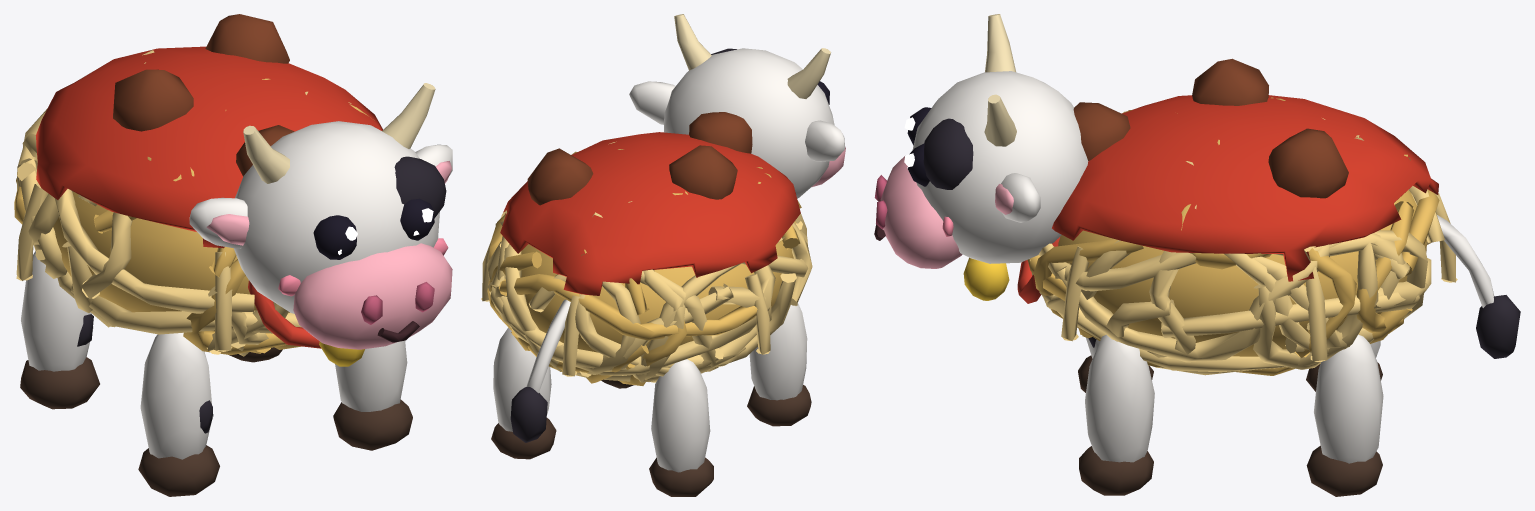
File: pilot_ku_spagetti_lav.glb
3 views of the same model, side by side, from view 1: azimuth 30°, elevation 25°; view 2: azimuth 150°, elevation 25°; view 3: azimuth 270°, elevation 25° (orthographic). The views are drawn at different scales.
Parts seen in each view (by area): view 1: kropp, hode, bein_vf, bein_vb, bein_hf; view 2: kropp, hode, bein_vb, bein_vf, bein_hb, hale; view 3: kropp, hode, bein_hf, bein_hb, hale.
Part boxes in pixels (x1,y1,x2,y2): kropp: (14, 14, 382, 356); hode: (189, 83, 452, 366); bein_vf: (138, 332, 219, 496); bein_vb: (20, 251, 99, 409); bein_hf: (333, 340, 412, 450); kropp: (481, 112, 812, 385); hode: (629, 14, 845, 198); bein_vb: (649, 359, 713, 496); bein_vf: (747, 303, 811, 426); bein_hb: (491, 327, 556, 459); hale: (510, 299, 570, 442); kropp: (1027, 58, 1457, 375); hode: (874, 14, 1088, 303); bein_hf: (1079, 334, 1154, 495); bein_hb: (1306, 334, 1383, 496); hale: (1437, 215, 1520, 358).
Bounding box in the file's own units: 0.9722 × 1.13 × 1.69.
